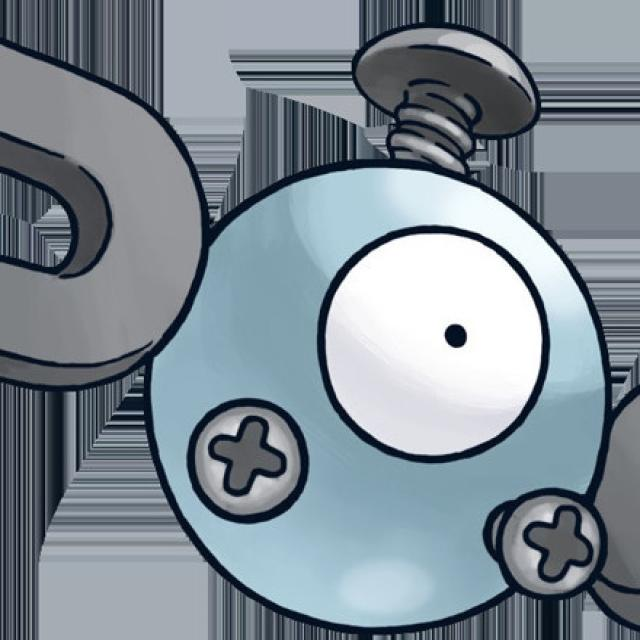Magnemite: (0, 37, 640, 640)
